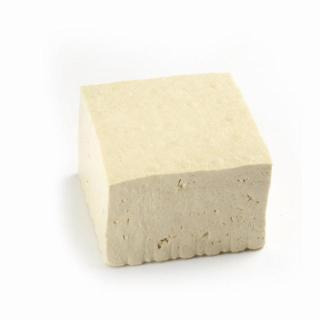Tahu: (62, 71, 281, 277)
